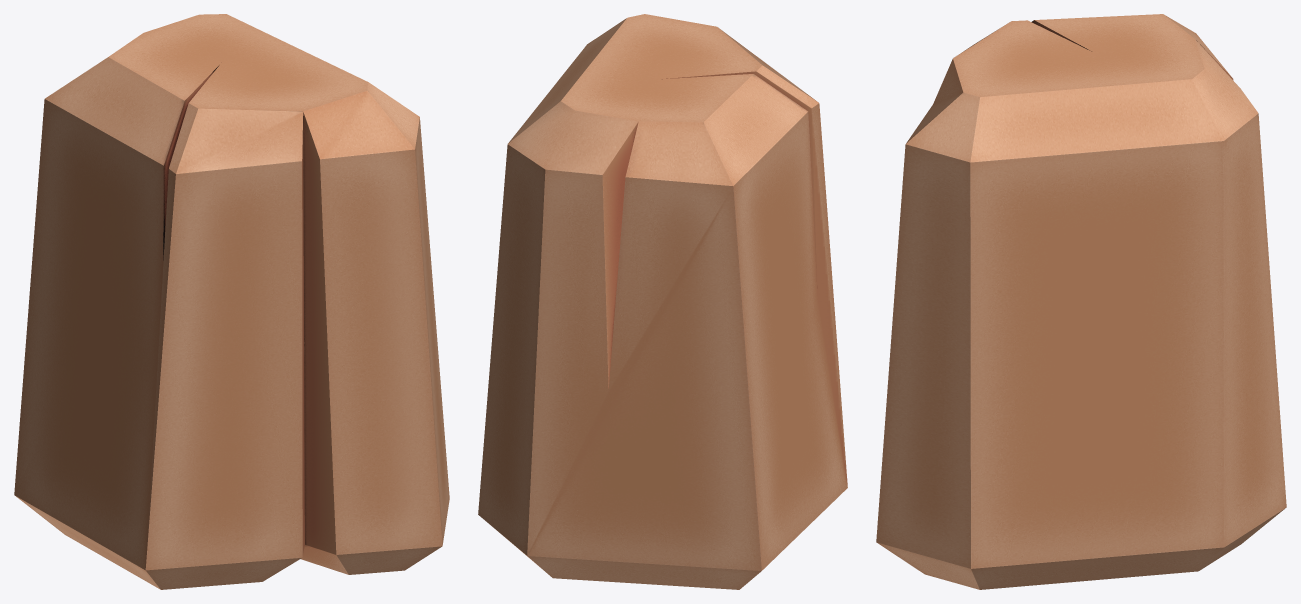
The model's file is Rock 11.fbx.
The picture shows the model from 3 angles, left to right: view 1: azimuth 30°, elevation 25°; view 2: azimuth 150°, elevation 25°; view 3: azimuth 270°, elevation 25°; orthographic projection. The views are drawn at different scales.
Visible parts, largest first — view 1: Rock_11; view 2: Rock_11; view 3: Rock_11.
Part boxes in pixels (x1,y1,x2,y2): Rock_11: (14, 14, 449, 589); Rock_11: (478, 14, 847, 589); Rock_11: (876, 14, 1286, 589).
Bounding box in the file's own units: 1.31 × 1.82 × 1.43.
